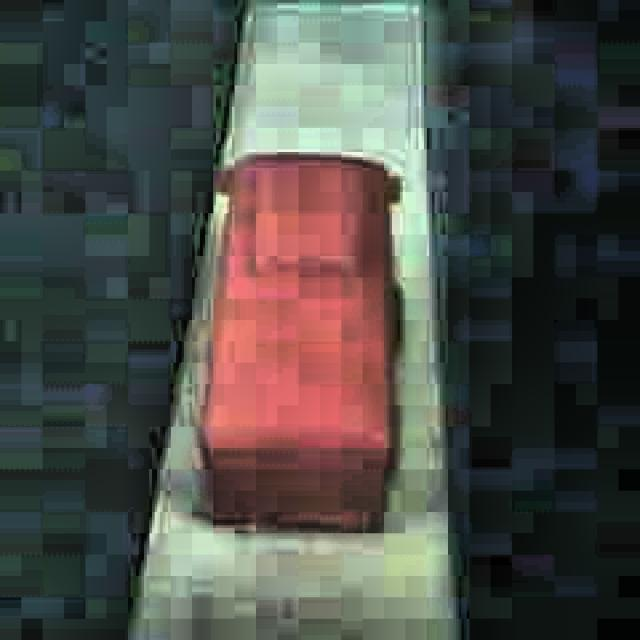bus: (197, 150, 408, 532)
